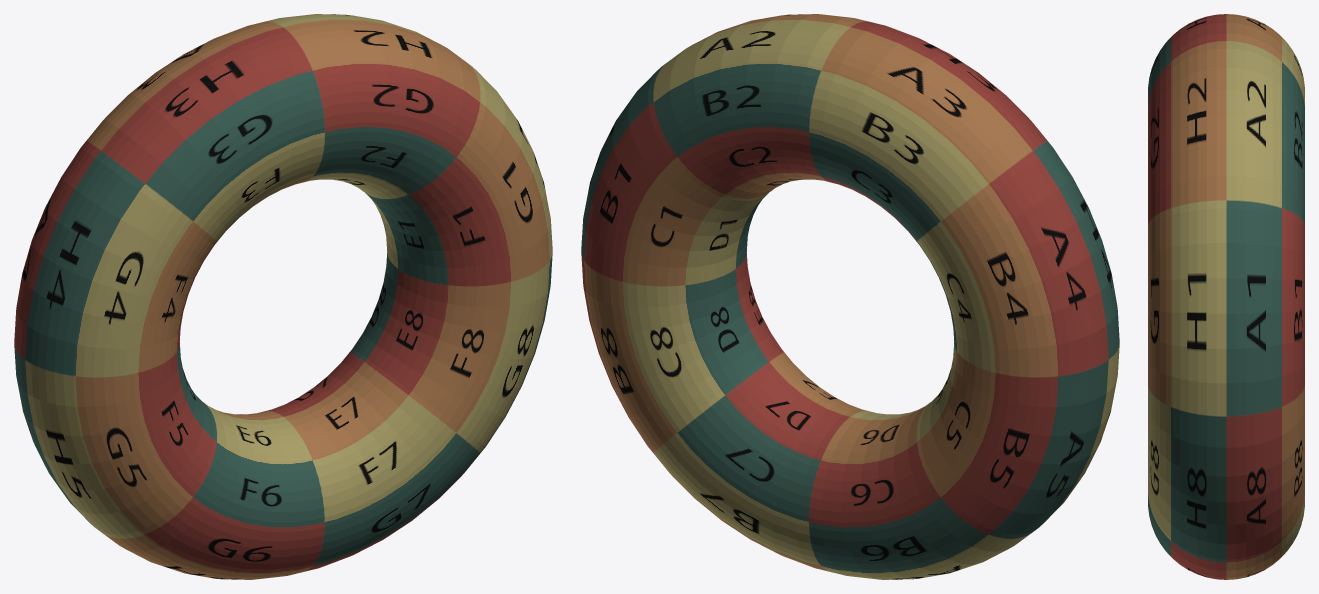
Rendered from texture_torus_R24_r30.glb.
3 views of the same model, side by side, from view 1: azimuth 30°, elevation 25°; view 2: azimuth 150°, elevation 25°; view 3: azimuth 270°, elevation 25° (orthographic). The views are drawn at different scales.
Parts seen in each view (by area): view 1: world; view 2: world; view 3: world.
Part boxes in pixels (x1=…): world: x1=14, y1=14, x2=552, y2=579; world: x1=581, y1=14, x2=1119, y2=579; world: x1=1148, y1=14, x2=1304, y2=579.
Size of the model in its own units: 36 by 35.93 by 9.98.
Materials: 1 (1 with a texture image).
